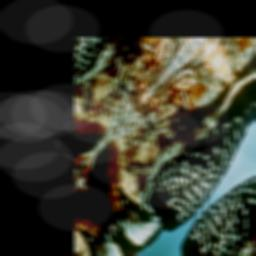Woodpecker: (79, 44, 256, 256)
